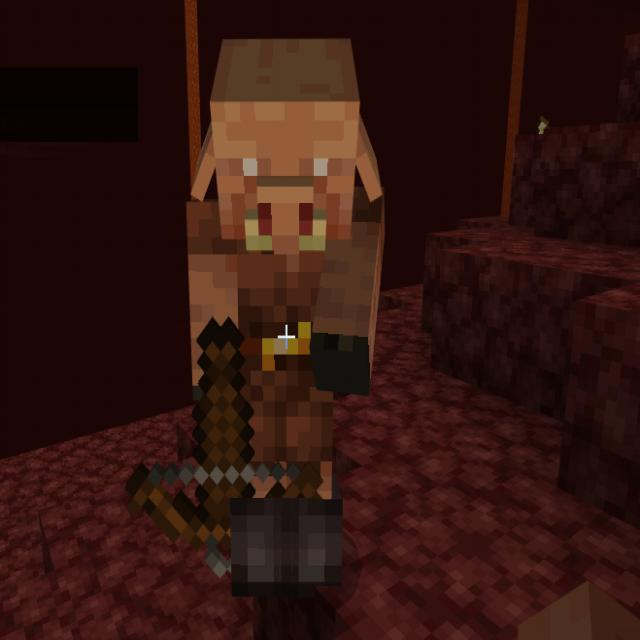Piglin: (124, 32, 388, 594)
